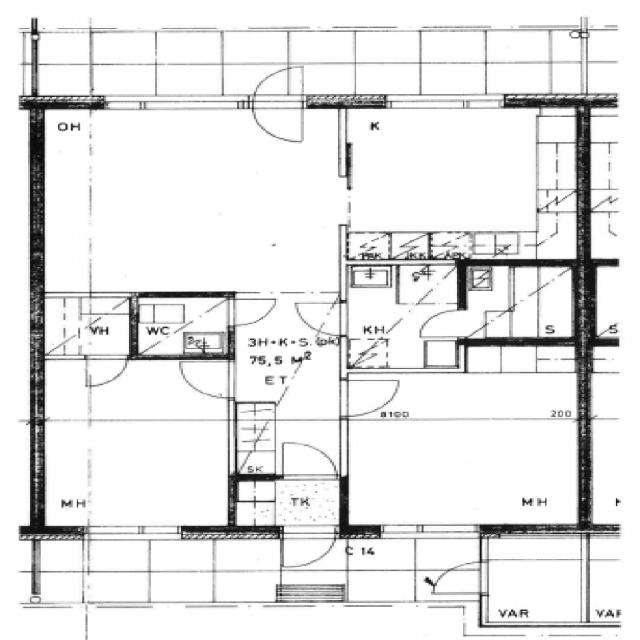door: (248, 64, 312, 148), (336, 369, 408, 420), (271, 437, 344, 484), (172, 354, 243, 402), (273, 522, 341, 570), (421, 557, 489, 601), (288, 293, 350, 340), (218, 290, 282, 330), (414, 304, 479, 343), (78, 354, 133, 388)
window: (484, 520, 590, 590), (94, 93, 244, 117), (78, 518, 194, 546), (375, 92, 510, 115), (370, 518, 485, 542), (493, 522, 588, 546)
zone: (59, 104, 358, 293), (32, 342, 240, 534), (335, 106, 590, 262), (479, 533, 591, 627), (460, 264, 586, 342), (132, 294, 232, 356)
